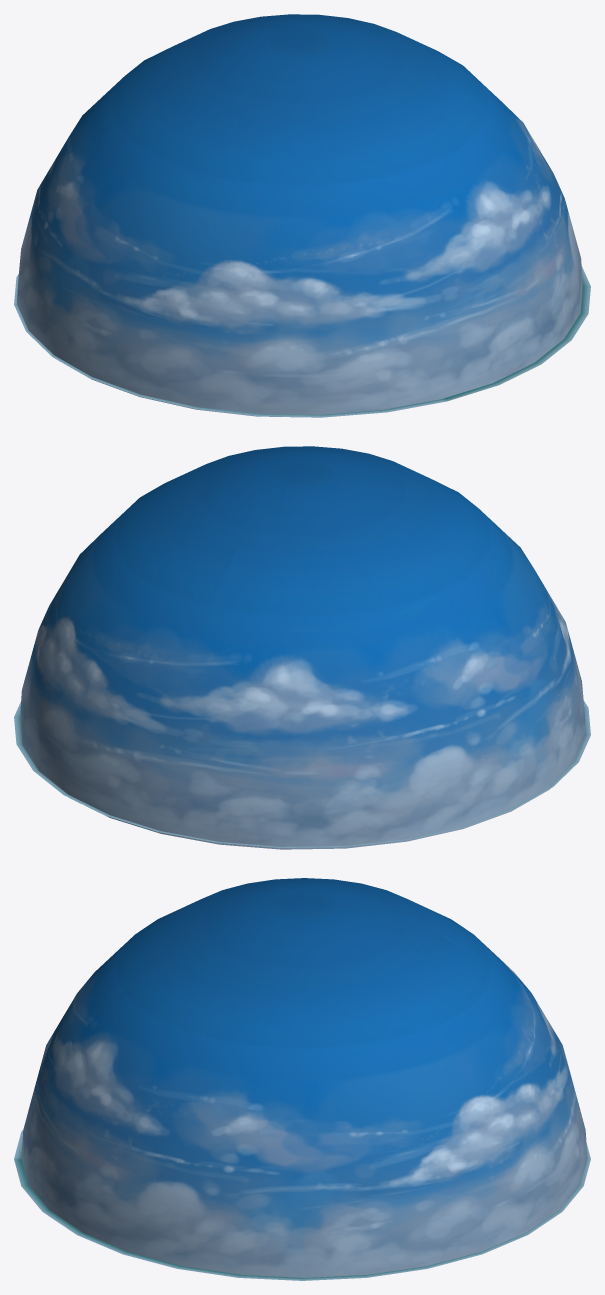
Rendered from Stronghold.fbx.
The picture shows the model from 3 angles, top to bottom: view 1: azimuth 30°, elevation 25°; view 2: azimuth 150°, elevation 25°; view 3: azimuth 270°, elevation 25°; orthographic projection.
Visible parts, largest first — view 1: Sky, Sea; view 2: Sky, Sea; view 3: Sky, Sea.
Boxes of the visible parts, x1,y1,x2,y2 form: Sky: (17, 14, 582, 417); Sea: (14, 266, 590, 417); Sky: (20, 446, 585, 849); Sea: (14, 700, 590, 847); Sky: (21, 878, 587, 1277); Sea: (14, 1130, 590, 1280).
Bounding box in the file's own units: 1712 × 914 × 1712.
5 materials, 5 textured.
